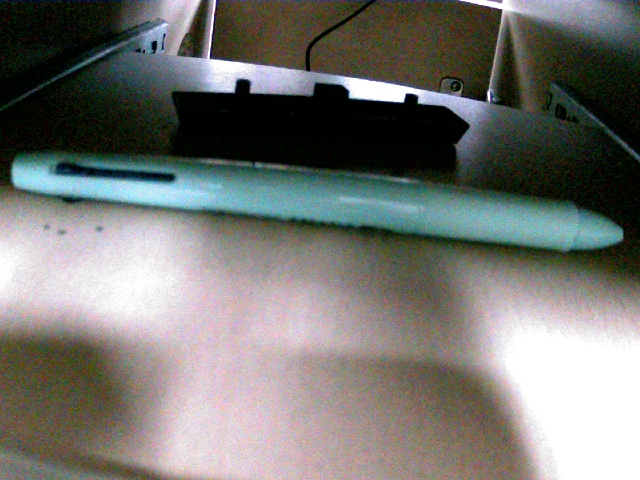pen: (15, 143, 622, 250)
